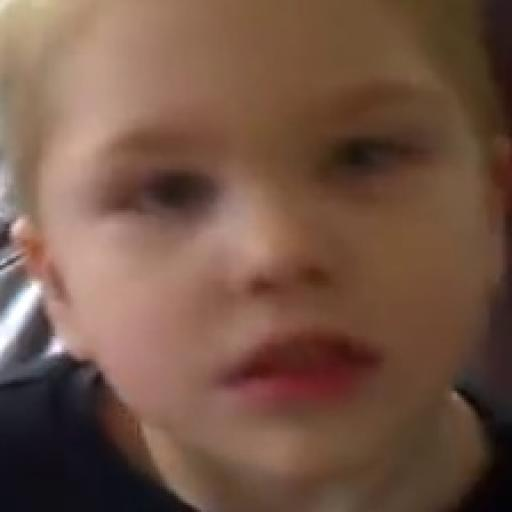Autism: (0, 14, 512, 488)
